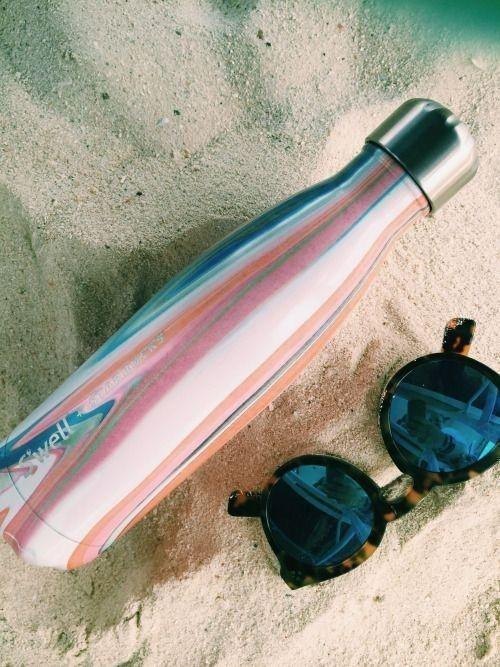gym bottle: (1, 97, 477, 573)
